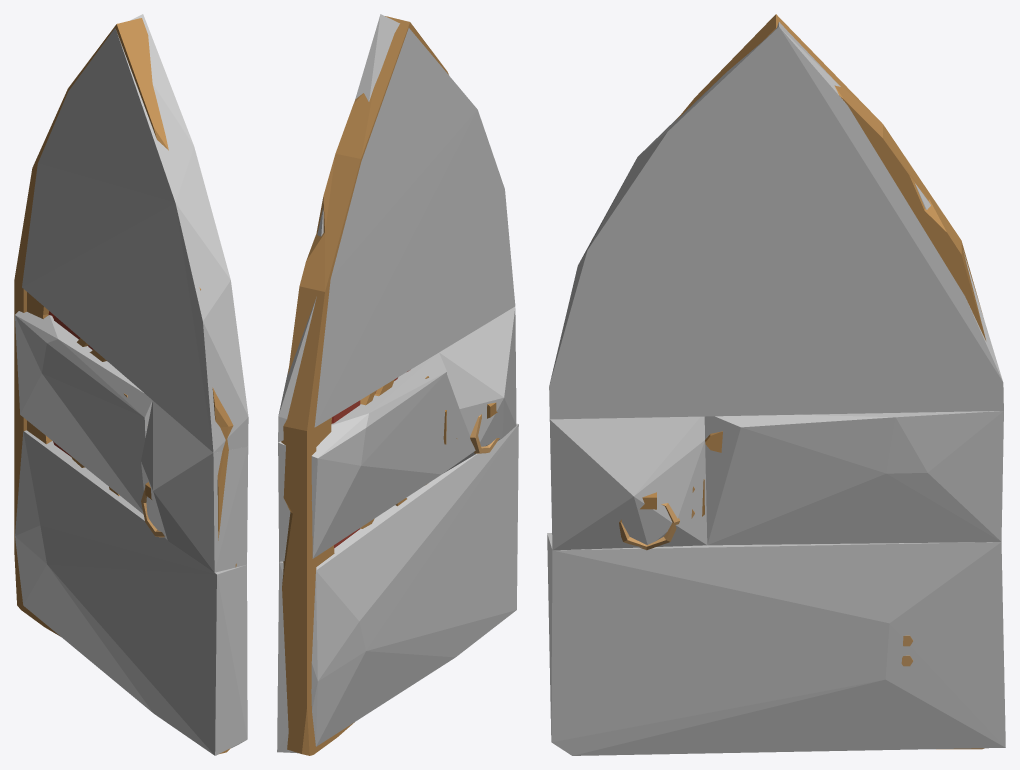
The model's file is SM_Bld_Door_03.fbx.
3 renders of one model, left to right at view 1: azimuth 30°, elevation 25°; view 2: azimuth 150°, elevation 25°; view 3: azimuth 270°, elevation 25°, orthographic. The views are drawn at different scales.
Visible parts, largest first — view 1: SM_Bld_Door_03_ConvexHulls, SM_Bld_Door_03; view 2: SM_Bld_Door_03_ConvexHulls, SM_Bld_Door_03; view 3: SM_Bld_Door_03_ConvexHulls, SM_Bld_Door_03.
Boxes of the visible parts, x1=… form: SM_Bld_Door_03_ConvexHulls: x1=15, y1=14, x2=248, y2=755; SM_Bld_Door_03: x1=14, y1=18, x2=236, y2=753; SM_Bld_Door_03_ConvexHulls: x1=277, y1=14, x2=518, y2=753; SM_Bld_Door_03: x1=281, y1=16, x2=499, y2=755; SM_Bld_Door_03_ConvexHulls: x1=547, y1=22, x2=1005, y2=755; SM_Bld_Door_03: x1=592, y1=14, x2=985, y2=749.
Bounding box in the file's own units: 33.04 × 147 × 257.
Materials: 2 (1 with a texture image).
